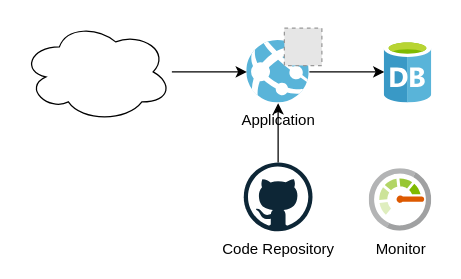
Some shapes in this 461 by 279 pixel diagram are drawn without their labels. Grey dashed boxes stand in for pictures. The shapes that lost their labels are listed below. From the top down, each one's centre as x and y in pixels, then its label:
(x=96, y=71): Clients
(x=407, y=71): Database
